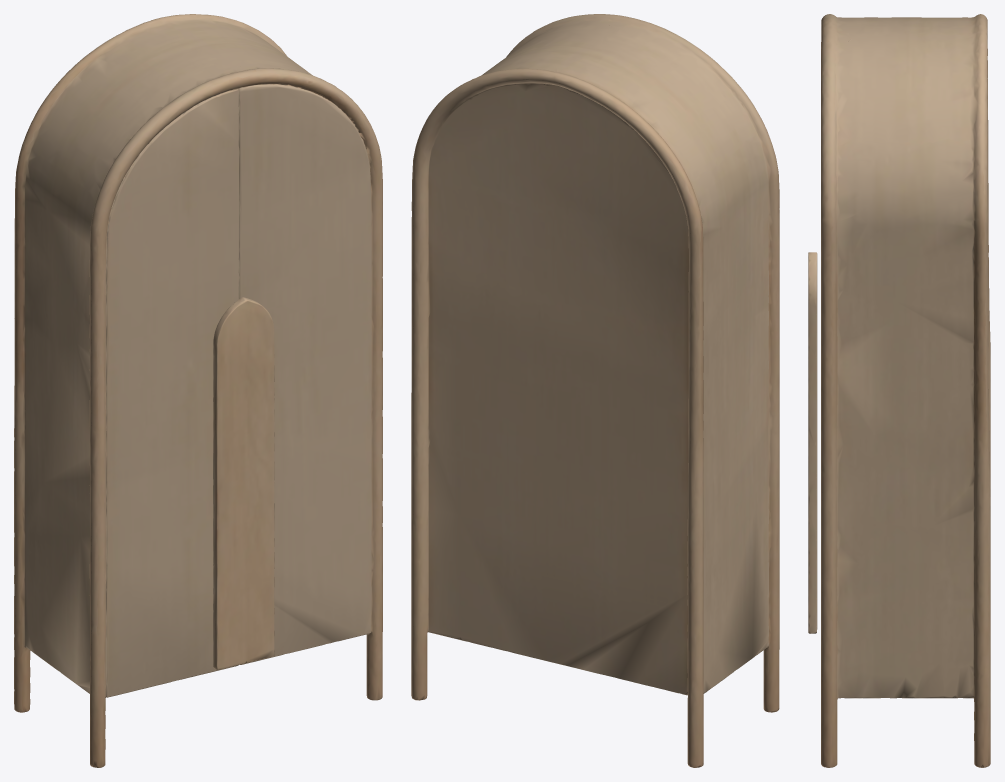
File: arched-wood-wardrobe.glb
The picture shows the model from 3 angles, left to right: view 1: azimuth 30°, elevation 25°; view 2: azimuth 150°, elevation 25°; view 3: azimuth 270°, elevation 25°; orthographic projection.
Visible parts, largest first — view 1: world; view 2: world; view 3: world.
Part boxes in pixels (left/top/right/bottom): world: left=14, top=14, right=382, bottom=767; world: left=411, top=14, right=779, bottom=767; world: left=808, top=14, right=990, bottom=767.
Size of the model in its own units: 0.4634 by 1 by 0.2489.
1 material, 1 textured.
